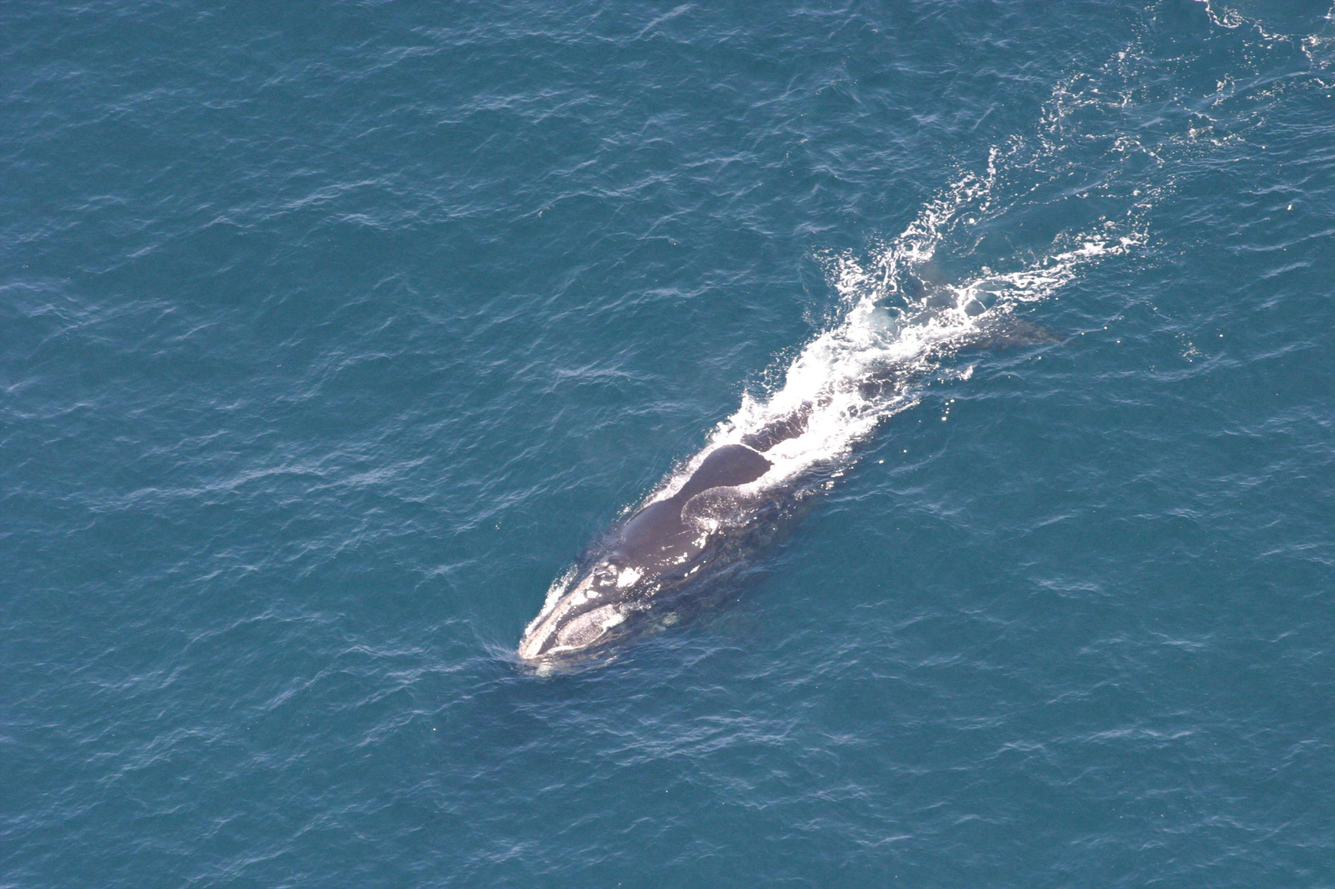whale: (507, 221, 1070, 690)
